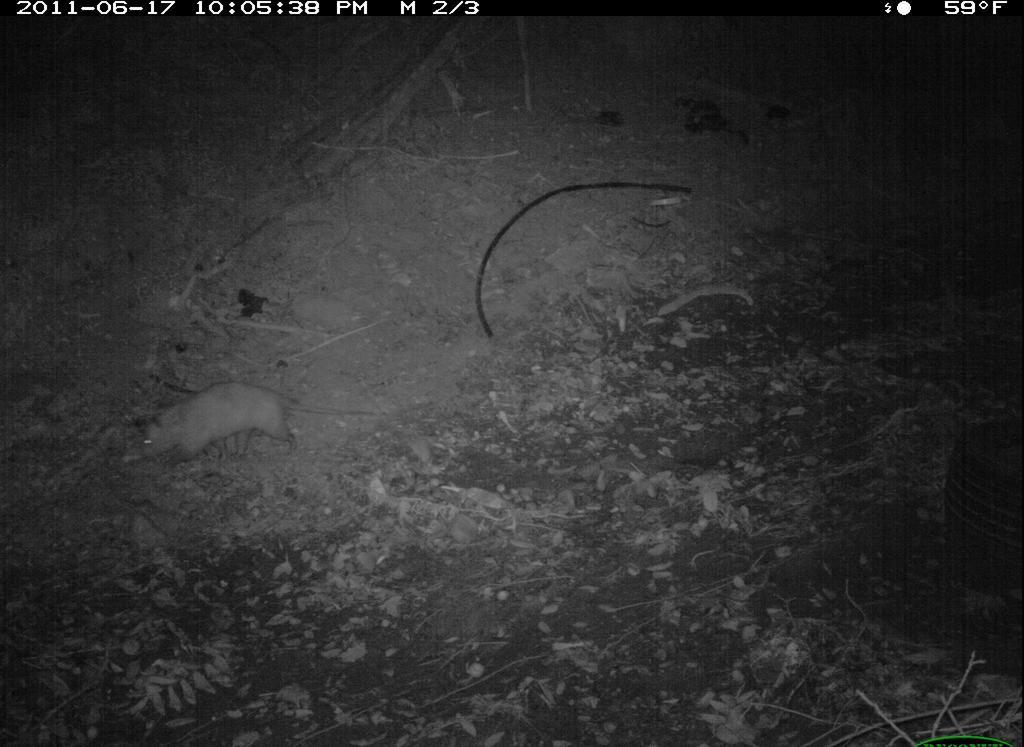opossum: (120, 364, 394, 478)
